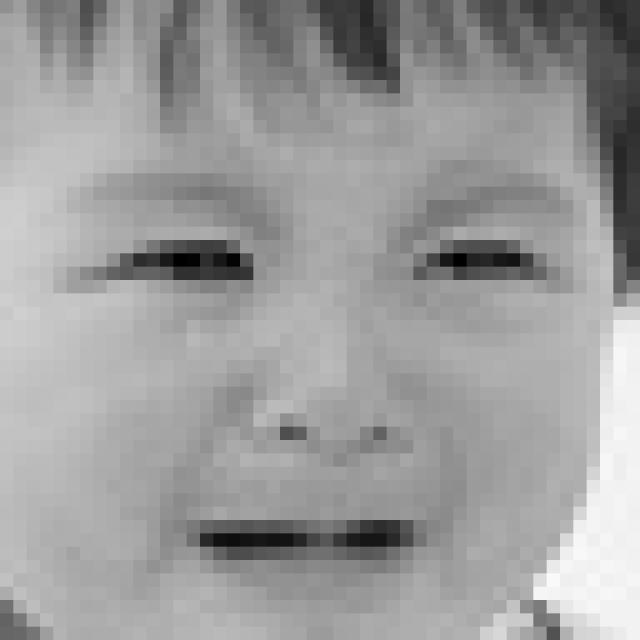sad: (56, 153, 578, 592)
